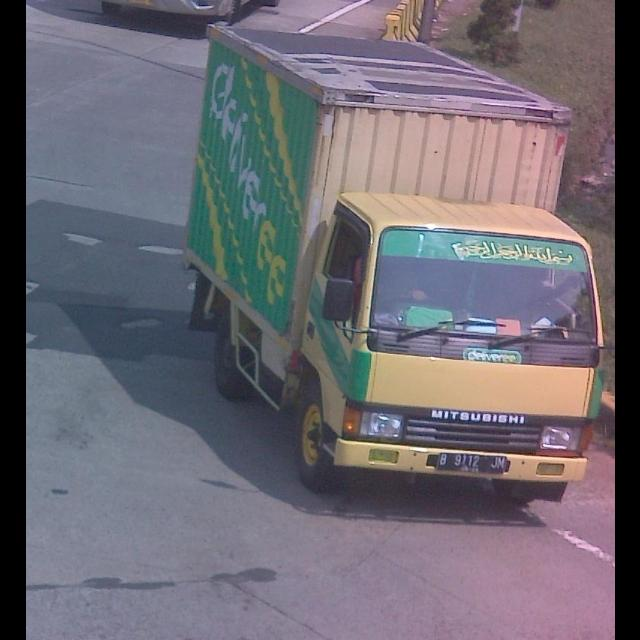plate: (437, 449, 508, 477)
